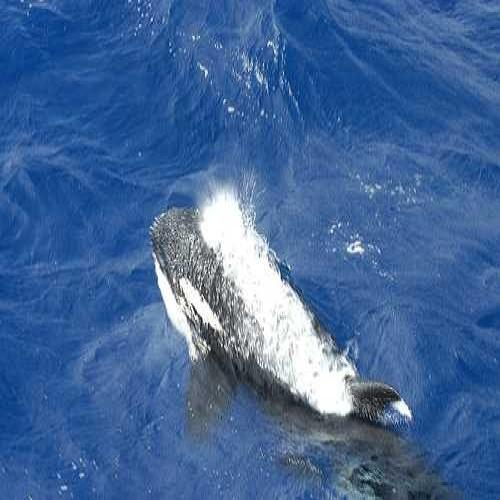killer_whale-endangered: (127, 164, 394, 436)
